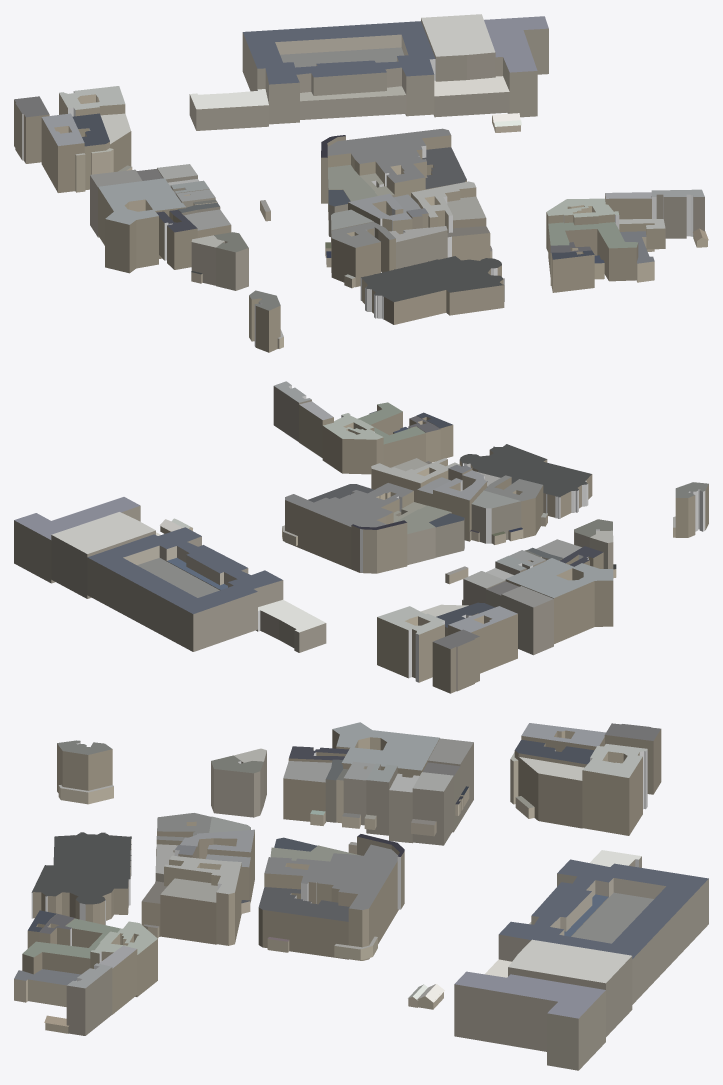
3 renders of one model, top to bottom at view 1: azimuth 30°, elevation 25°; view 2: azimuth 150°, elevation 25°; view 3: azimuth 270°, elevation 25°, orthographic. The views are drawn at different scales.
Visible parts, largest first — view 1: tuile; view 2: tuile; view 3: tuile.
Boxes of the visible parts, bbox=[...] form: tuile: bbox=[14, 14, 708, 352]; tuile: bbox=[14, 381, 708, 693]; tuile: bbox=[14, 722, 708, 1070].
Size of the model in its own units: 294 by 34.67 by 288.
